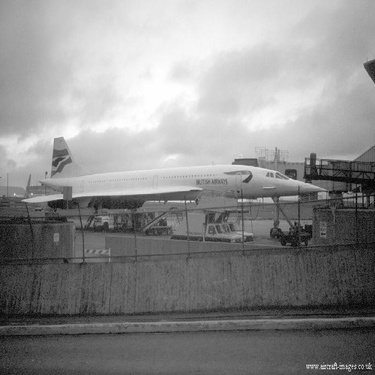airplane: (15, 124, 345, 236)
